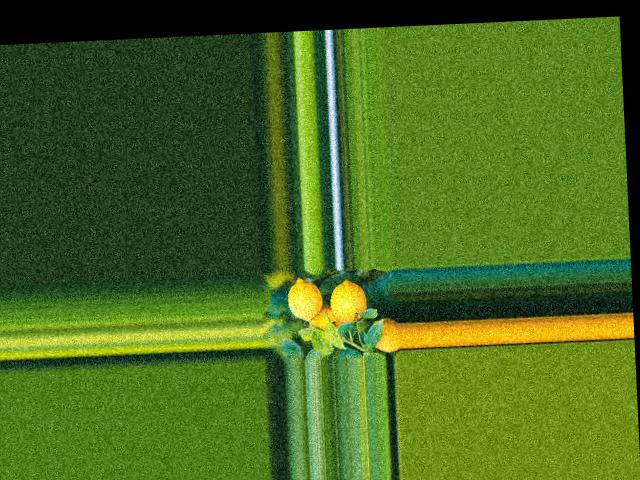lemon: (287, 278, 322, 323)
